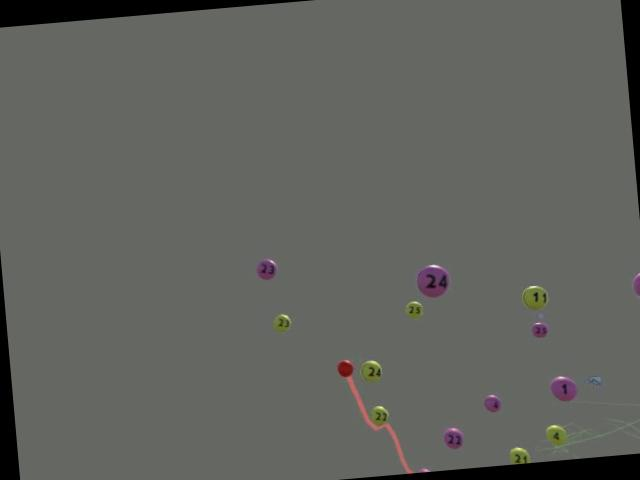ball_01_pink: (548, 374, 577, 402)
ball_04_pink: (482, 393, 501, 412)
ball_04_yellow: (544, 424, 565, 446)
ball_11_yellow: (520, 283, 548, 310)
ball_21_yellow: (508, 446, 529, 464)
ball_22_pink: (442, 425, 464, 449)
ball_22_yellow: (368, 404, 388, 426)
ball_23_pink: (414, 262, 450, 298), (255, 257, 278, 280)
ball_23_yellow: (272, 312, 290, 332)
ball_24_yellow: (358, 359, 382, 382)
ball_25_pink: (530, 321, 547, 338)
ball_25_yellow: (403, 300, 422, 318)
ball_unknown: (631, 270, 640, 300), (418, 466, 430, 472)
user_cursor: (335, 358, 354, 377)
